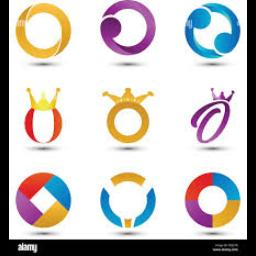o: (176, 164, 244, 230), (179, 0, 247, 62), (95, 0, 163, 60), (97, 169, 159, 231), (13, 0, 73, 62), (103, 100, 155, 146), (189, 98, 233, 146)
